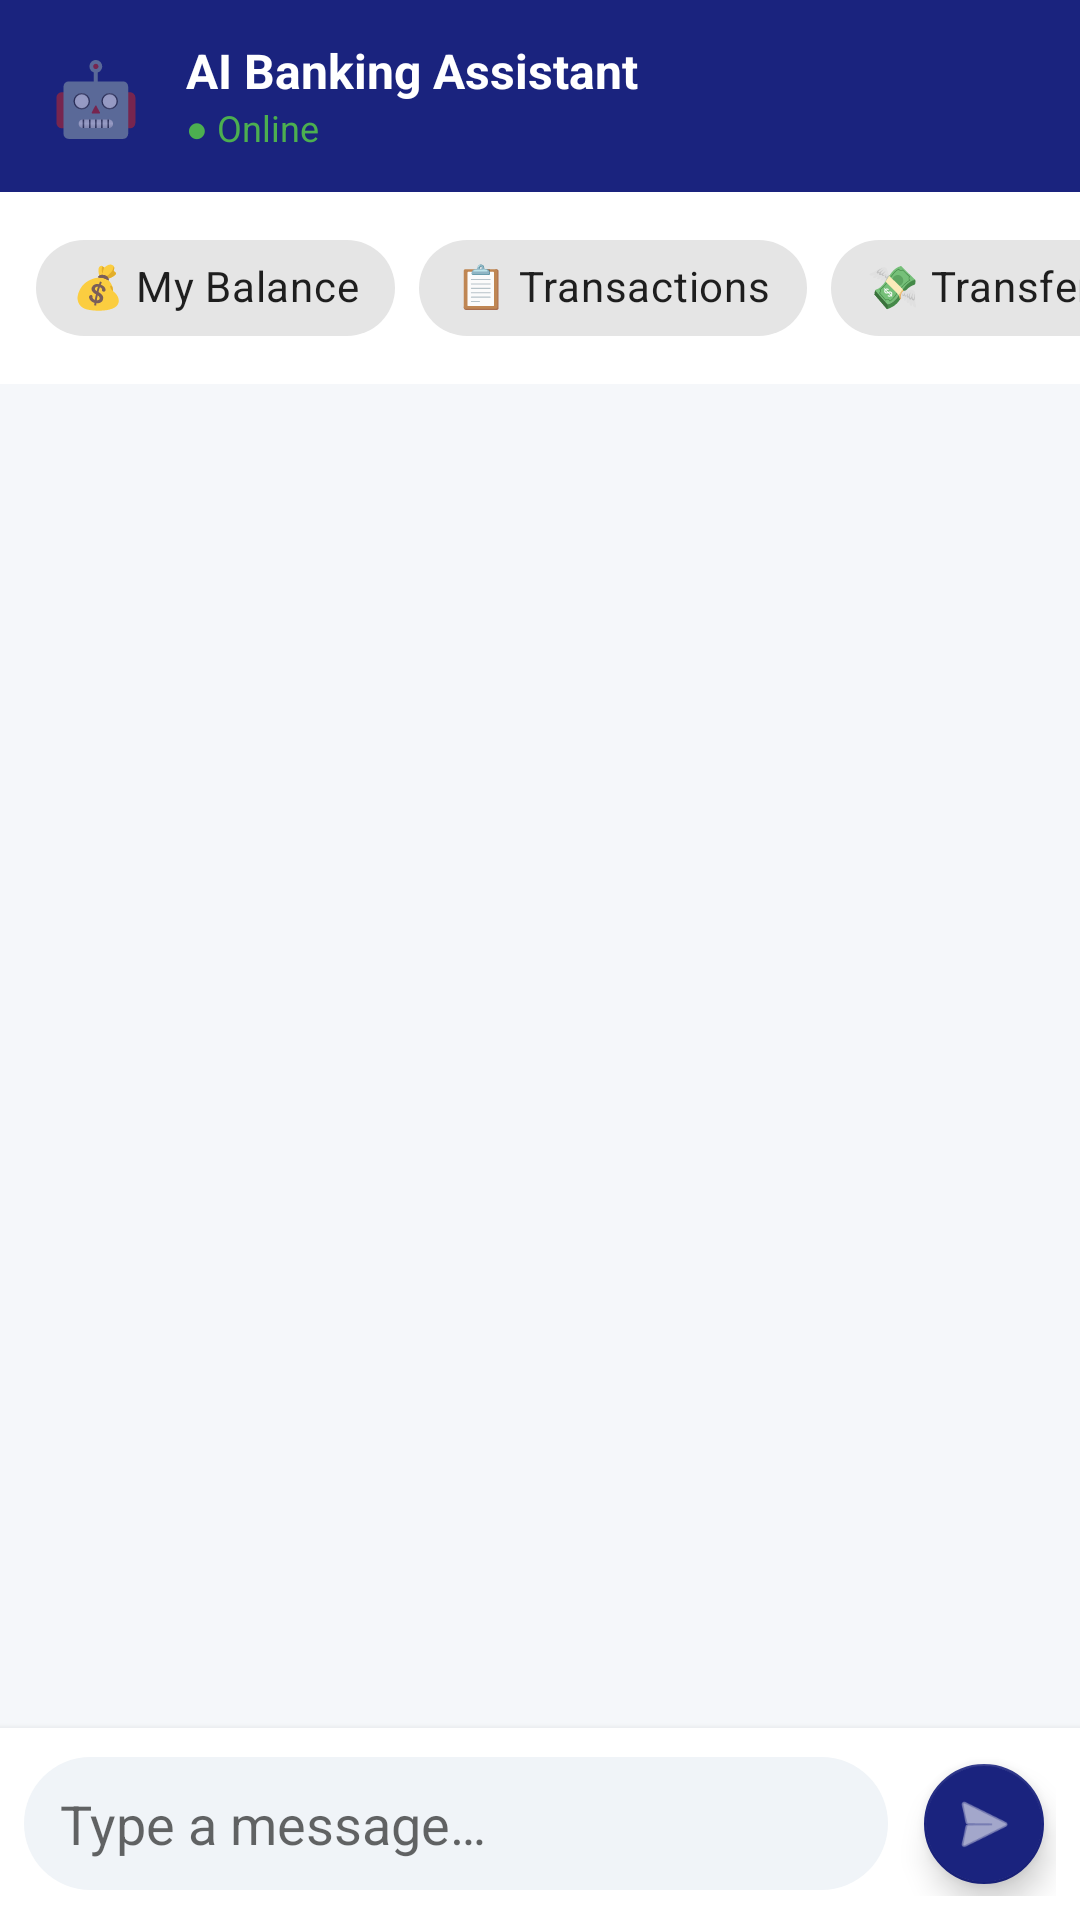

Where icons sit on this 1080x1920 app screen, as (x1, y1, x2, y2):
send: (924, 1764, 1047, 1896)
